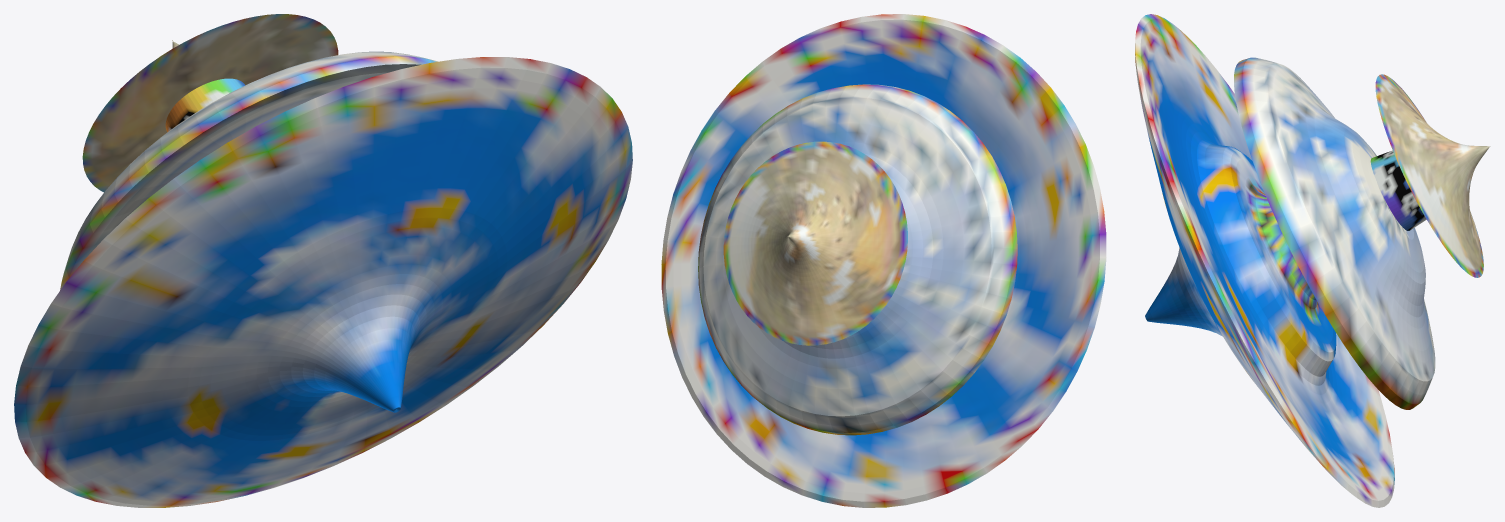
The model's file is april28outdoorpagoda7.glb.
3 renders of one model, left to right at view 1: azimuth 30°, elevation 25°; view 2: azimuth 150°, elevation 25°; view 3: azimuth 270°, elevation 25°, orthographic. The views are drawn at different scales.
Parts seen in each view (by area): view 1: Lathe 4, Lathe, Lathe 3, Lathe.001; view 2: Lathe 4, Lathe 3, Lathe; view 3: Lathe 4, Lathe 3, Lathe, Lathe.001.
Boxes of the visible parts, x1=… form: Lathe 4: x1=14, y1=57, x2=632, y2=507; Lathe: x1=82, y1=14, x2=338, y2=192; Lathe 3: x1=60, y1=51, x2=437, y2=290; Lathe.001: x1=165, y1=78, x2=245, y2=132; Lathe 4: x1=661, y1=14, x2=1106, y2=507; Lathe 3: x1=698, y1=84, x2=1017, y2=435; Lathe: x1=723, y1=141, x2=907, y2=345; Lathe 4: x1=1135, y1=14, x2=1394, y2=507; Lathe 3: x1=1234, y1=57, x2=1435, y2=409; Lathe: x1=1375, y1=74, x2=1490, y2=277; Lathe.001: x1=1370, y1=150, x2=1426, y2=230.
Bounding box in the file's own units: 3.74 × 3.29 × 2.44.
